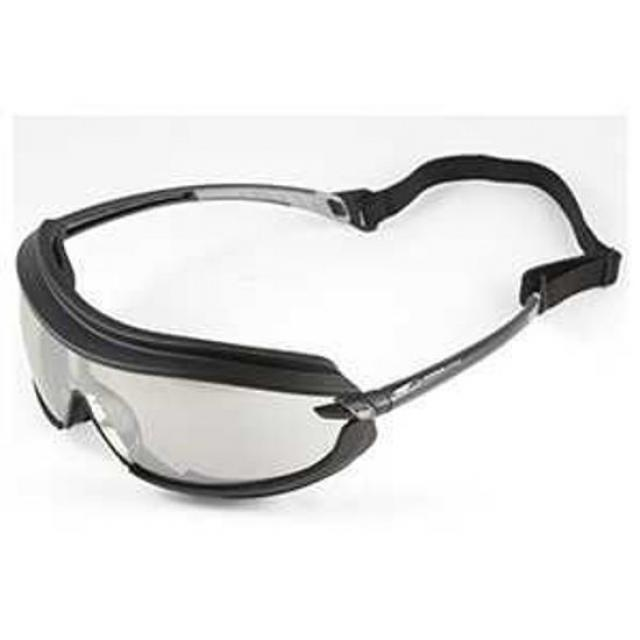Protective Glasses: (0, 118, 640, 538)
